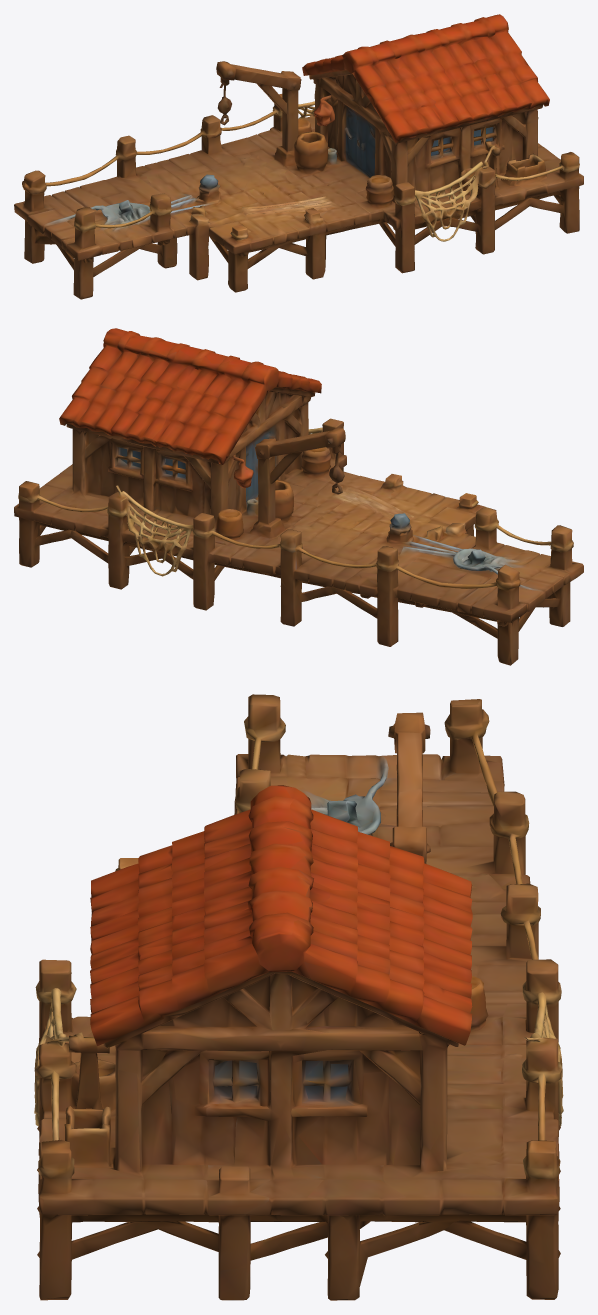
The model's file is Piece11.fbx.
The picture shows the model from 3 angles, top to bottom: view 1: azimuth 30°, elevation 25°; view 2: azimuth 150°, elevation 25°; view 3: azimuth 270°, elevation 25°; orthographic projection. The views are drawn at different scales.
Visible parts, largest first — view 1: Piece11; view 2: Piece11; view 3: Piece11.
Boxes of the visible parts, bbox=[...] form: Piece11: bbox=[14, 14, 583, 299]; Piece11: bbox=[14, 328, 583, 665]; Piece11: bbox=[34, 694, 563, 1300].
Bounding box in the file's own units: 100 × 36.96 × 50.02.
Materials: 1 (1 with a texture image).
